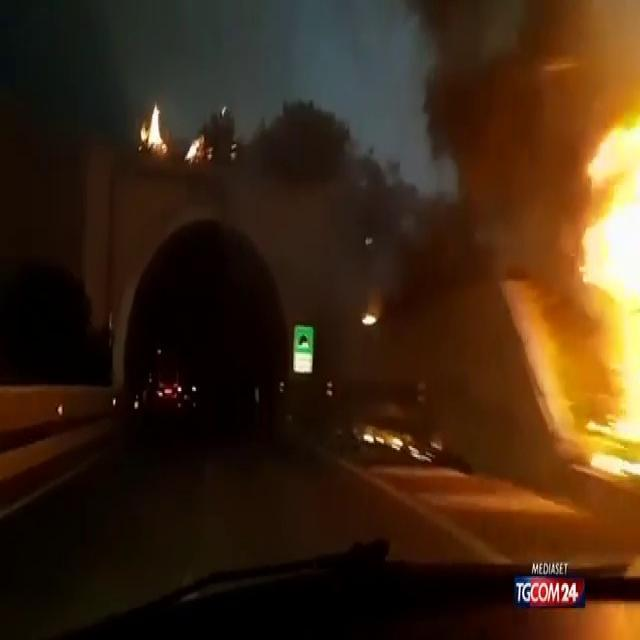Fire: (555, 67, 640, 480), (138, 98, 168, 160)
